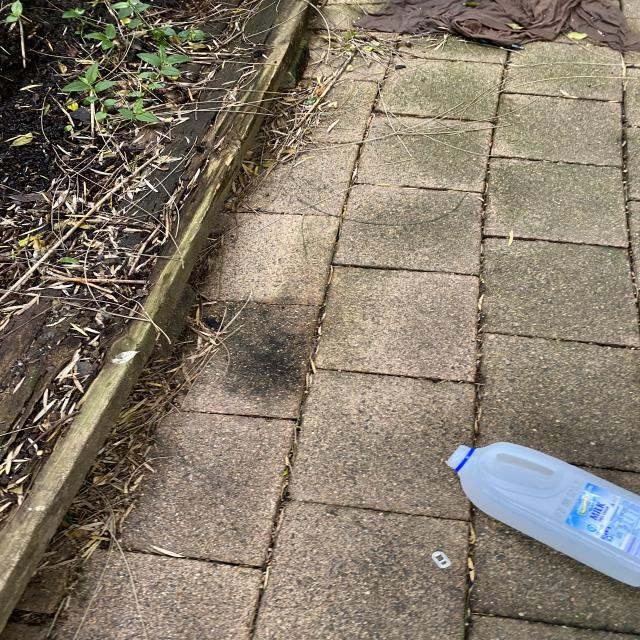bottle: (442, 441, 640, 589)
